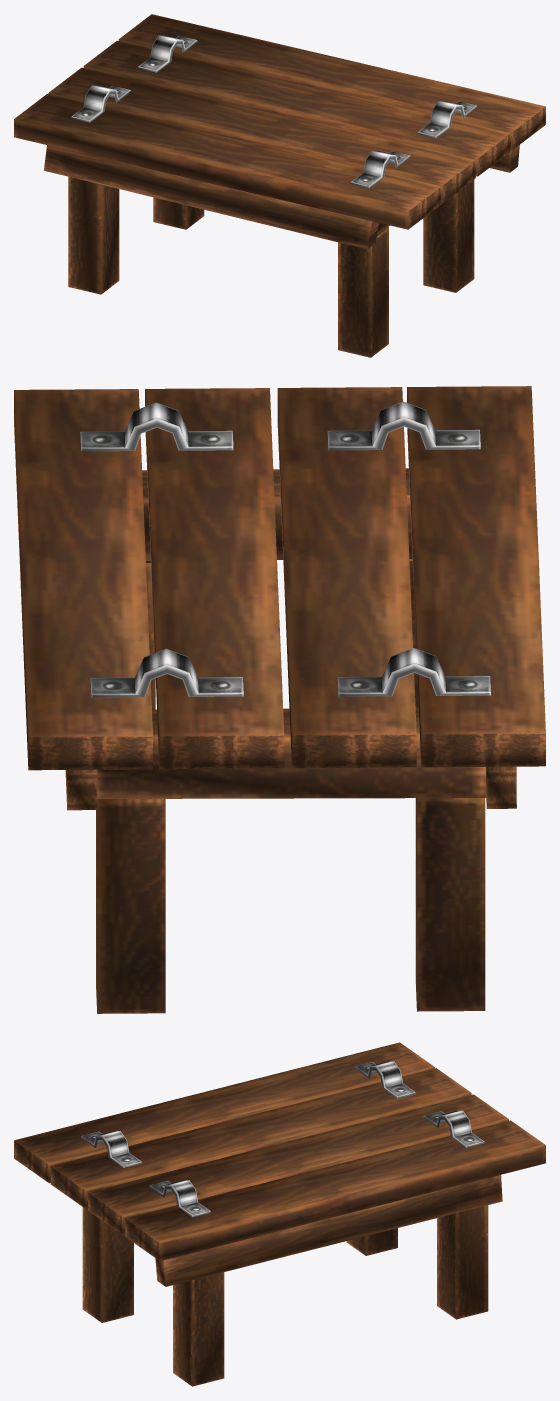
File: SWORDLIGHT20_INST_TORTTABLE_LOD1_01.fbx
3 views of the same model, one above another, from view 1: azimuth 30°, elevation 25°; view 2: azimuth 150°, elevation 25°; view 3: azimuth 270°, elevation 25° (orthographic). The views are drawn at different scales.
Visible parts, largest first — view 1: SWORDLIGHT20_INST_TORTTABLE_LOD1_01; view 2: SWORDLIGHT20_INST_TORTTABLE_LOD1_01; view 3: SWORDLIGHT20_INST_TORTTABLE_LOD1_01.
Part boxes in pixels (x1,y1,x2,y2): SWORDLIGHT20_INST_TORTTABLE_LOD1_01: (14,14,545,357); SWORDLIGHT20_INST_TORTTABLE_LOD1_01: (14,386,545,1013); SWORDLIGHT20_INST_TORTTABLE_LOD1_01: (14,1042,545,1386).
Size of the model in its own units: 20464 by 8945 by 22917.
Materials: 3 (3 with a texture image).
